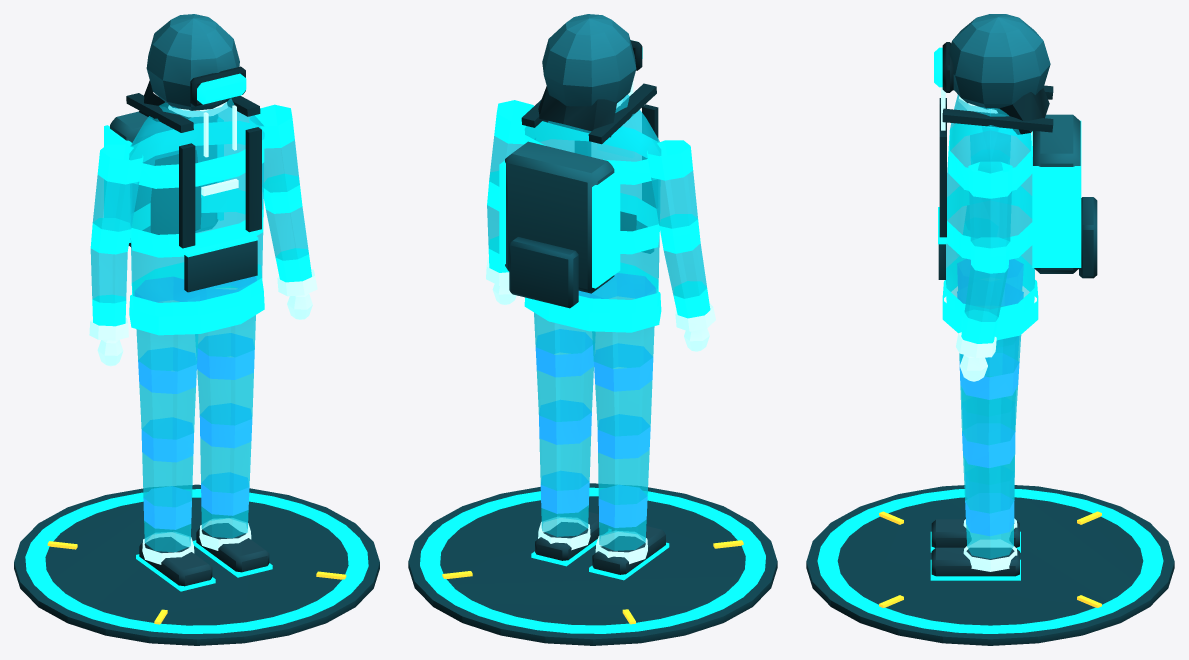
File: amigo_holo.glb
3 renders of one model, left to right at view 1: azimuth 30°, elevation 25°; view 2: azimuth 150°, elevation 25°; view 3: azimuth 270°, elevation 25°, orthographic.
Parts seen in each view (by area): view 1: amigo_holo; view 2: amigo_holo; view 3: amigo_holo.
Boxes of the visible parts, x1,y1,x2,y2 form: amigo_holo: [14, 14, 379, 645]; amigo_holo: [408, 14, 777, 645]; amigo_holo: [806, 14, 1174, 645].
Bounding box in the file's own units: 1 × 1.65 × 1.
